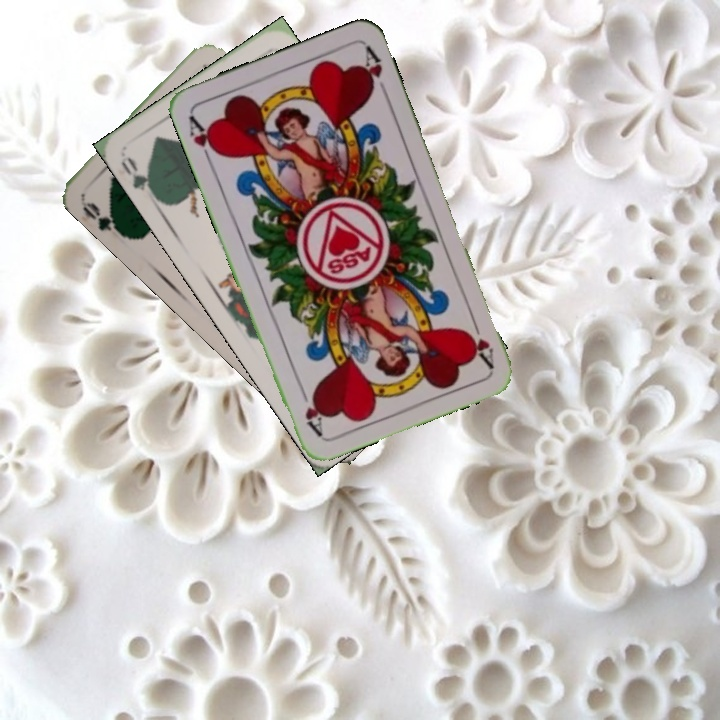GO: (78, 198, 129, 241), (117, 152, 160, 203)
HA: (184, 111, 222, 168), (462, 313, 497, 370)
